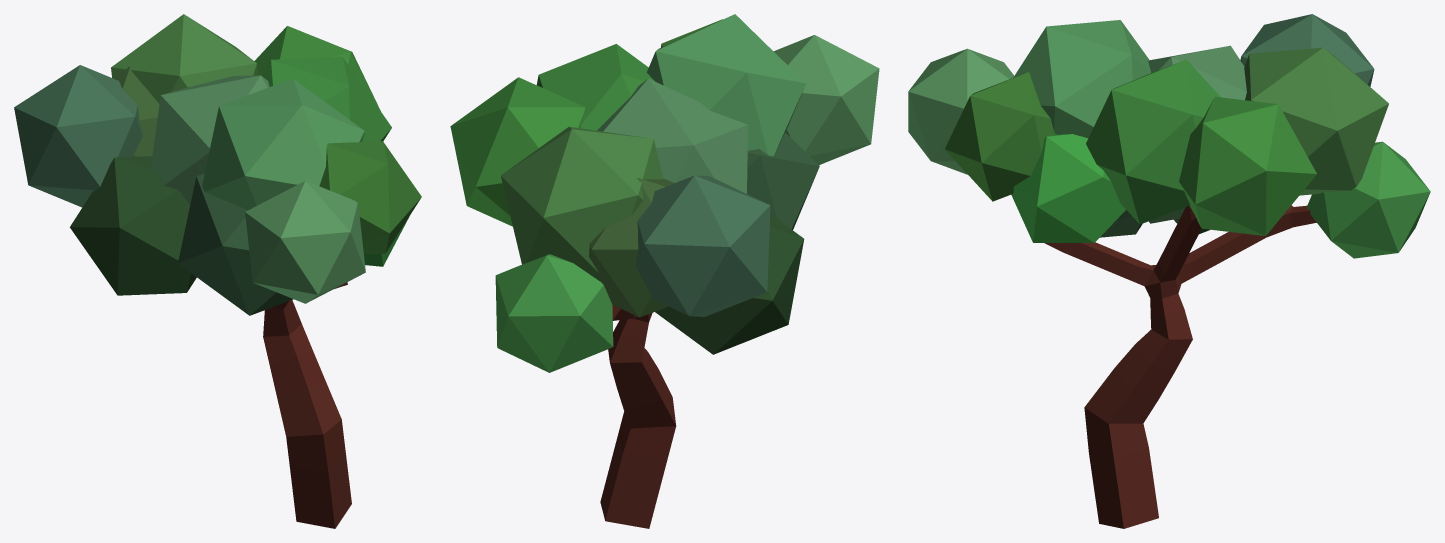
File: Low Poly Trees.fbx
3 renders of one model, left to right at view 1: azimuth 30°, elevation 25°; view 2: azimuth 150°, elevation 25°; view 3: azimuth 270°, elevation 25°, orthographic. The views are drawn at different scales.
Visible parts, largest first — view 1: Icosphere.001, Icosphere.006, Icosphere.012, Cube, Icosphere, Icosphere.010, Icosphere.011, Icosphere.009, Icosphere.008, Icosphere.002, Icosphere.003, Icosphere.004; view 2: Icosphere.006, Icosphere.008, Icosphere.001, Icosphere.005, Cube, Icosphere.003, Icosphere.009, Icosphere, Icosphere.012, Icosphere.002, Icosphere.004, Icosphere.010; view 3: Cube, Icosphere.003, Icosphere.002, Icosphere.008, Icosphere.001, Icosphere.011, Icosphere.013, Icosphere.005, Icosphere, Icosphere.006, Icosphere.009, Icosphere.010.
Part boxes in pixels (left/top/right/bottom): Icosphere.001: left=202, top=78, right=364, bottom=210; Icosphere.006: left=14, top=65, right=142, bottom=207; Icosphere.012: left=70, top=156, right=196, bottom=295; Cube: left=263, top=282, right=351, bottom=528; Icosphere: left=245, top=181, right=365, bottom=303; Icosphere.010: left=178, top=173, right=293, bottom=315; Icosphere.011: left=319, top=141, right=421, bottom=254; Icosphere.009: left=151, top=75, right=269, bottom=204; Icosphere.008: left=111, top=14, right=257, bottom=103; Icosphere.002: left=261, top=57, right=391, bottom=141; Icosphere.003: left=254, top=26, right=380, bottom=110; Icosphere.004: left=113, top=66, right=159, bottom=156; Icosphere.006: left=636, top=175, right=770, bottom=316; Icosphere.008: left=501, top=126, right=663, bottom=281; Icosphere.001: left=647, top=14, right=805, bottom=156; Icosphere.005: left=495, top=254, right=613, bottom=372; Cube: left=600, top=304, right=676, bottom=528; Icosphere.003: left=450, top=77, right=584, bottom=226; Icosphere.009: left=597, top=78, right=747, bottom=193; Icosphere: left=774, top=35, right=879, bottom=164; Icosphere.012: left=655, top=214, right=804, bottom=354; Icosphere.002: left=536, top=44, right=654, bottom=130; Icosphere.004: left=589, top=178, right=674, bottom=317; Icosphere.010: left=747, top=132, right=819, bottom=229; Cube: left=1044, top=205, right=1316, bottom=528; Icosphere.003: left=1179, top=96, right=1316, bottom=235; Icosphere.002: left=1086, top=59, right=1220, bottom=224; Icosphere.008: left=1244, top=47, right=1388, bottom=195; Icosphere.001: left=1013, top=20, right=1150, bottom=138; Icosphere.011: left=945, top=72, right=1055, bottom=201; Icosphere.013: left=1011, top=134, right=1125, bottom=242; Icosphere.005: left=1306, top=141, right=1430, bottom=258; Icosphere: left=908, top=48, right=1013, bottom=174; Icosphere.006: left=1240, top=14, right=1374, bottom=86; Icosphere.009: left=1148, top=45, right=1246, bottom=223; Icosphere.010: left=1100, top=210, right=1142, bottom=237.
Bounding box in the file's own units: 599 × 846 × 856.
